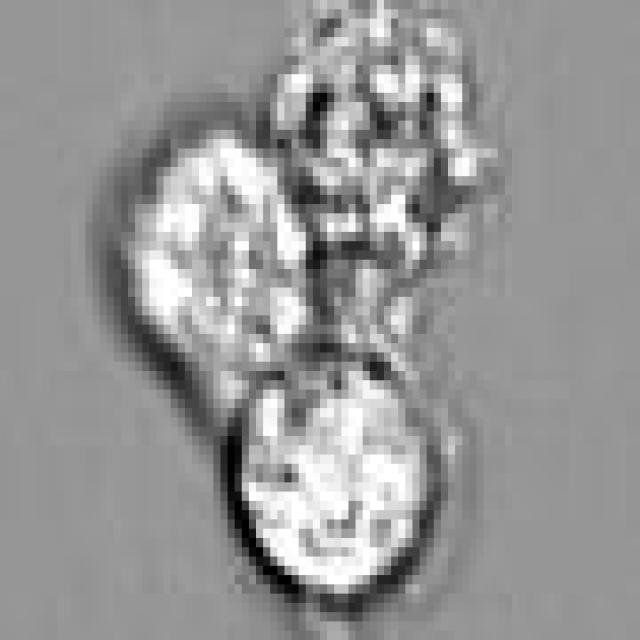Cancer Cell: (227, 343, 441, 594)
WBC: (270, 10, 491, 278), (121, 111, 320, 371)
